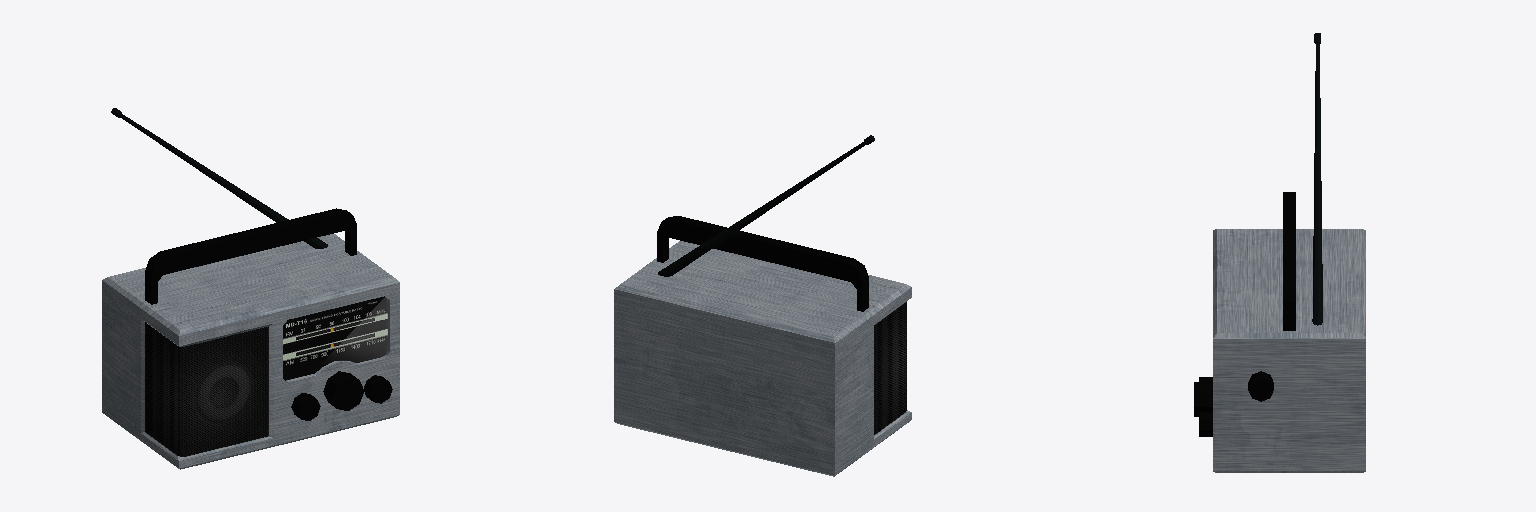
The picture shows the model from 3 angles: view 1: azimuth 30°, elevation 25°; view 2: azimuth 150°, elevation 25°; view 3: azimuth 270°, elevation 25°; orthographic projection.
Visible parts, largest first — view 1: Cube, Cube.001, Cylinder.004, Cylinder.002, Cylinder, Cylinder.001; view 2: Cube, Cube.001, Cylinder.004; view 3: Cube, Cylinder.004, Cube.001, Cylinder.003, Cylinder.002.
Boxes of the visible parts, x1,y1,x2,y2 form: Cube: [102, 234, 399, 469]; Cube.001: [145, 208, 356, 304]; Cylinder.004: [111, 108, 327, 248]; Cylinder.002: [323, 371, 363, 410]; Cylinder: [291, 393, 320, 420]; Cylinder.001: [364, 375, 392, 403]; Cube: [614, 241, 911, 476]; Cube.001: [657, 216, 868, 311]; Cylinder.004: [658, 135, 874, 276]; Cube: [1213, 229, 1365, 472]; Cylinder.004: [1312, 33, 1322, 325]; Cube.001: [1283, 192, 1295, 330]; Cylinder.003: [1248, 371, 1273, 401]; Cylinder.002: [1194, 382, 1212, 416].
Bounding box in the file's own units: 3.77 × 4.72 × 2.25.
3 materials, 1 textured.